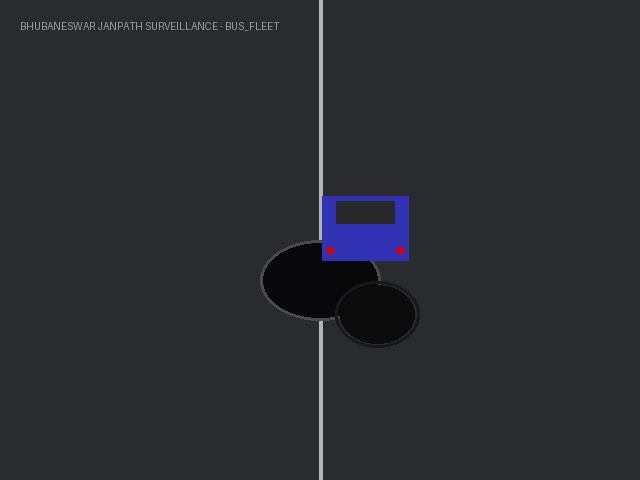pothole: (340, 285, 414, 343)
vehicle: (321, 196, 408, 260)
